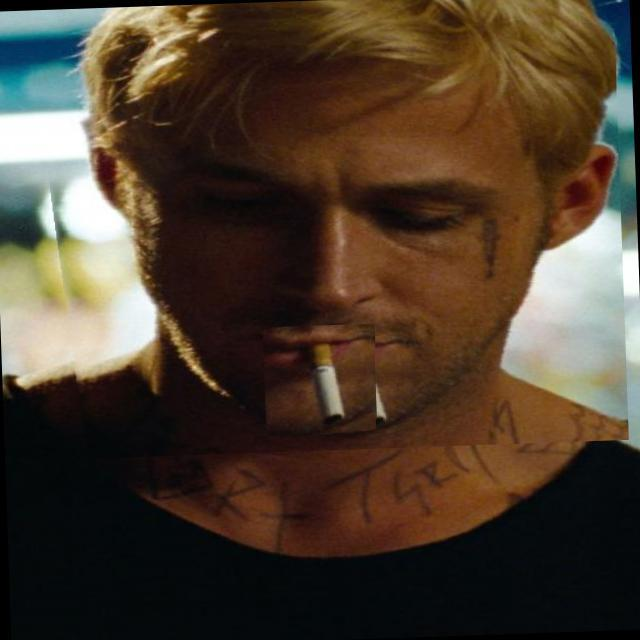cigarette: (262, 323, 378, 439)
